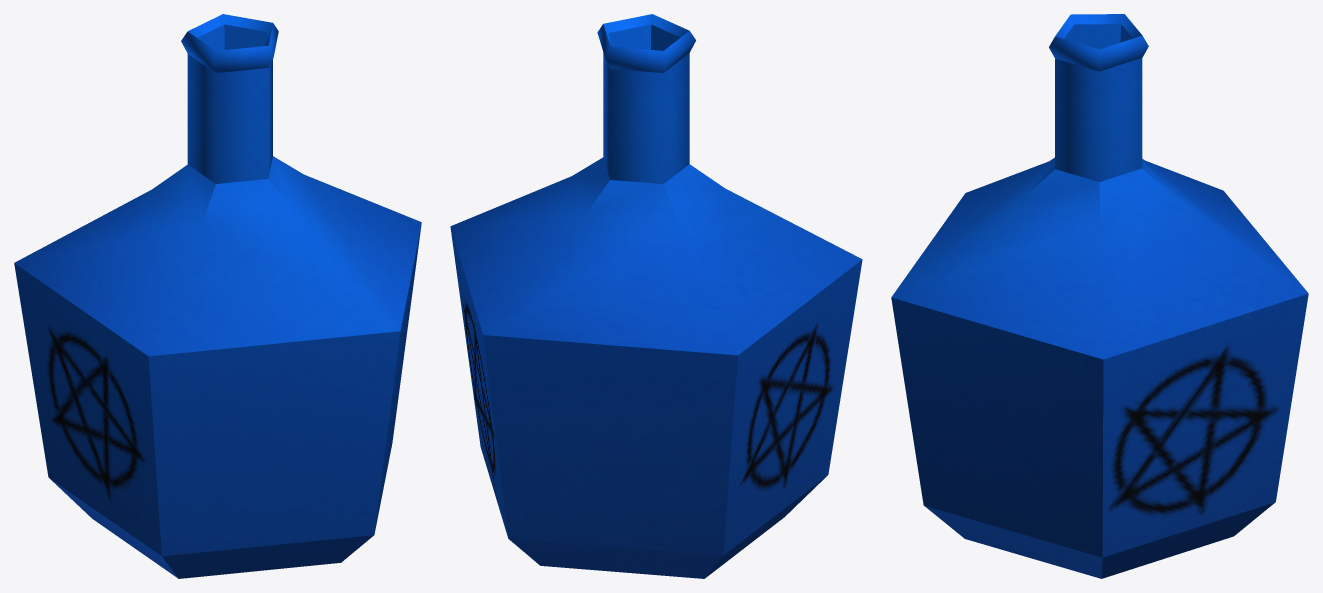
Rendered from Magic Potion.fbx.
The picture shows the model from 3 angles, left to right: view 1: azimuth 30°, elevation 25°; view 2: azimuth 150°, elevation 25°; view 3: azimuth 270°, elevation 25°; orthographic projection.
Visible parts, largest first — view 1: Magic_Potion_Bottle; view 2: Magic_Potion_Bottle; view 3: Magic_Potion_Bottle.
Part boxes in pixels (bbox=[...]): Magic_Potion_Bottle: bbox=[14, 14, 421, 578]; Magic_Potion_Bottle: bbox=[450, 14, 862, 578]; Magic_Potion_Bottle: bbox=[891, 14, 1308, 578].
Size of the model in its own units: 0.00588 by 0.00794 by 0.00614.
